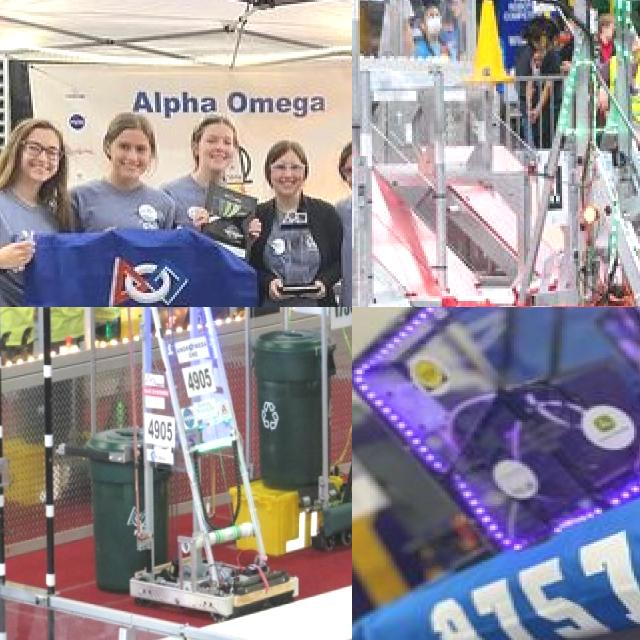FRC-Robots: (352, 307, 640, 640), (352, 0, 640, 307), (117, 307, 263, 632), (262, 307, 352, 548)
